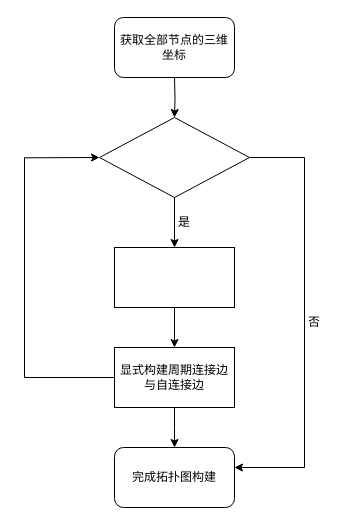
Image size: 362x525. Some labels were removed from this diagram. The centre of each missing label's shape, as x and y in pixels:
"是否还有未处理完的节点" belongs at (174,157).
"根据物理截断半径，同时跨越周期性边界，构建节点的邻居集合" belongs at (174,277).
